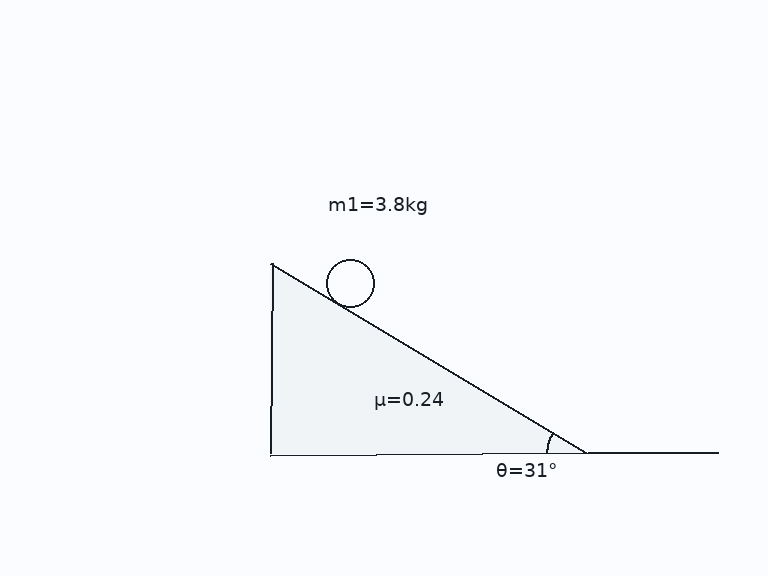ball: (324, 257, 376, 309)
ramp: (269, 261, 589, 455)
